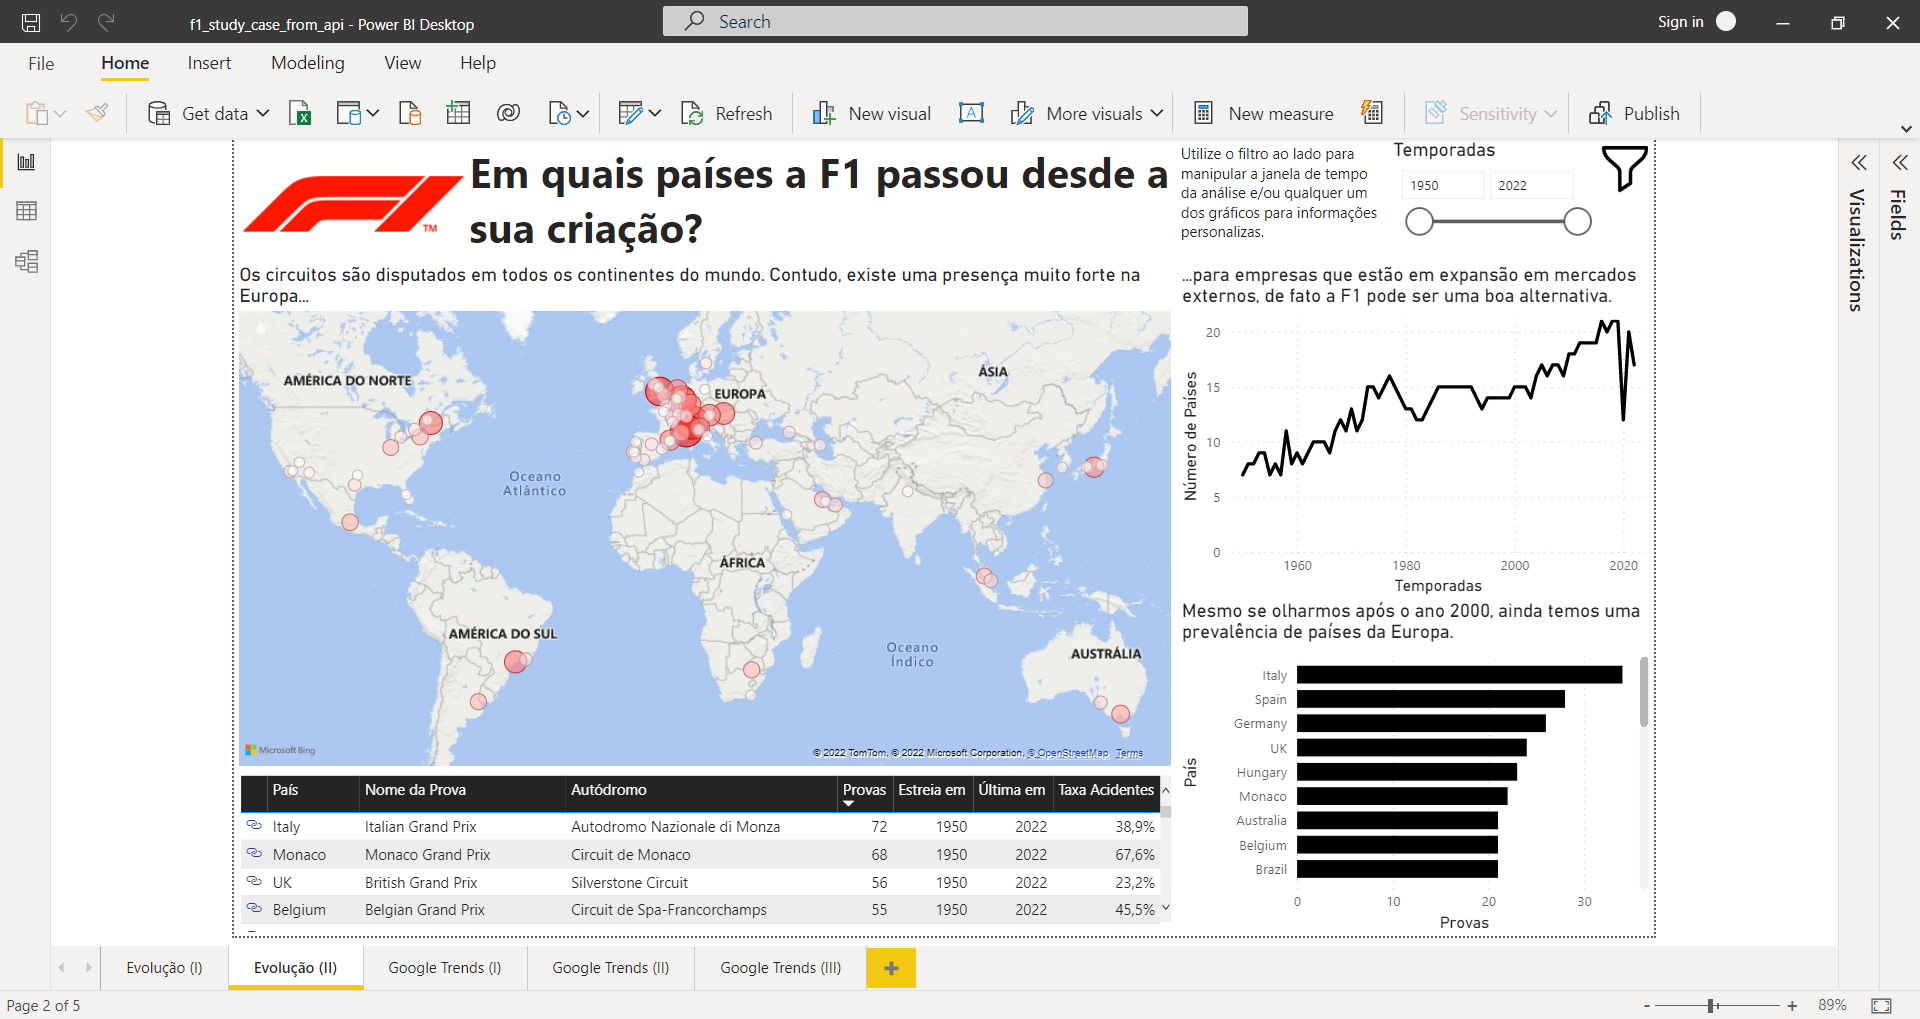

Layout of this report page (visuals, bound fields, positions):
{"tool":"powerbi","page":{"name":"Evolução (II)","canvas":[1280,720],"ordinal":1},"visuals":[{"type":"textbox","box":[207.8,0,641.8,112.5],"z":0},{"type":"image","box":[0,0,212.7,121],"z":1000},{"type":"map","title":"Os circuitos são disputados em todos os continentes do mundo. Contudo, existe uma presença muito forte na Europa...","fields":{"Y":["results.CircuitLat"],"X":["results.CircuitLong"],"Size":["Count(results.SeasonRoundGP)"]},"box":[0,112.5,849.6,458.4],"z":2000},{"type":"textbox","box":[848,0,192,112],"z":3000},{"type":"slicer","title":"Temporadas","fields":{"Values":["results.Season"]},"box":[1040,0,192,112],"z":4000},{"type":"lineChart","title":"...para empresas que estão em expansão em mercados externos, de fato a F1 pode ser uma boa alternativa.","fields":{"Category":["results.Season"],"Y":["Count(results.Country)"]},"box":[849.6,112.5,430.3,304.4],"z":5000},{"type":"tableEx","fields":{"Values":["results.CircuitUrl","results.Country","results.RaceName","results.CircuitName","results.SeasonRoundGP","results.Season","results.Season1","resultsDetails.AccidentGP"]},"box":[0,569.6,849.6,150.4],"z":6000},{"type":"barChart","title":"Mesmo se olharmos após o ano 2000, ainda temos uma prevalência de países da Europa.","fields":{"Category":["results.Country"],"Y":["Count(results.SeasonRoundGP)"]},"box":[849.6,415.6,430.3,304.4],"z":7000},{"type":"image","box":[1228.5,0,51.3,56.2],"z":8000}]}

Visuals, with their boxes on the page's 1280x720 design canvas (x1, y1, x2, y2). These are canvas units, not pixel positions in the 1920x1019 screenshot, which may show the page scaled, cropped or inside an application window:
textbox: left=208, top=0, right=850, bottom=112
image: left=0, top=0, right=213, bottom=121
"Os circuitos são disputados em todos os continentes do mundo. Contudo, existe uma presença muito forte na Europa..." map: left=0, top=112, right=850, bottom=571
textbox: left=848, top=0, right=1040, bottom=112
"Temporadas" slicer: left=1040, top=0, right=1232, bottom=112
"...para empresas que estão em expansão em mercados externos, de fato a F1 pode ser uma boa alternativa." lineChart: left=850, top=112, right=1280, bottom=417
tableEx - results.CircuitUrl x results.Country: left=0, top=570, right=850, bottom=720
"Mesmo se olharmos após o ano 2000, ainda temos uma prevalência de países da Europa." barChart: left=850, top=416, right=1280, bottom=720
image: left=1228, top=0, right=1280, bottom=56
